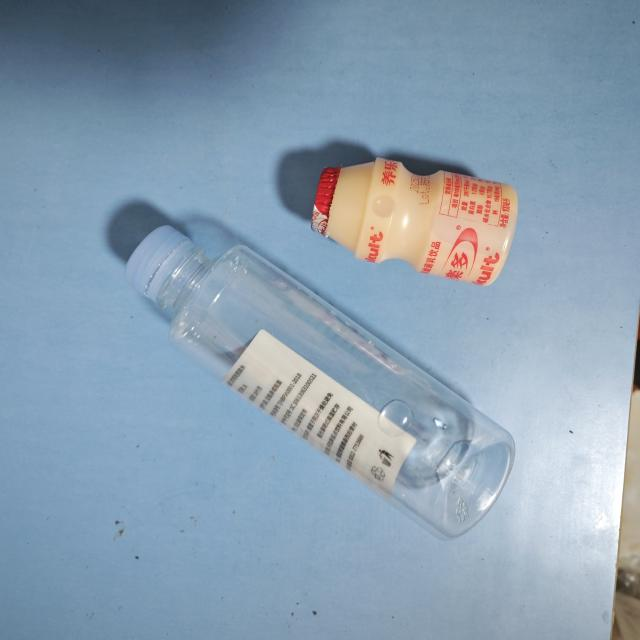-Recyclables - plastic bottle-: (123, 225, 514, 538), (306, 156, 514, 288)
